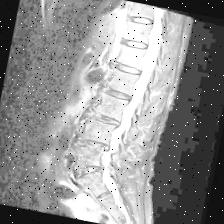disc: (117, 34, 150, 52), (126, 11, 156, 30)
hdisc: (96, 82, 136, 106), (83, 106, 123, 130), (110, 58, 146, 80), (75, 133, 112, 153)
